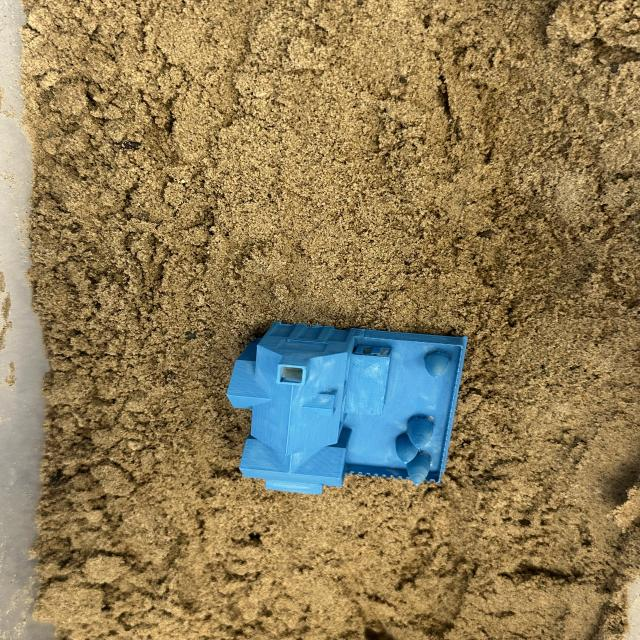house: (227, 320, 471, 495)
